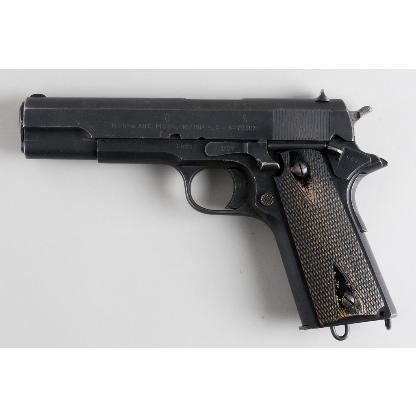gun: (19, 86, 398, 340)
